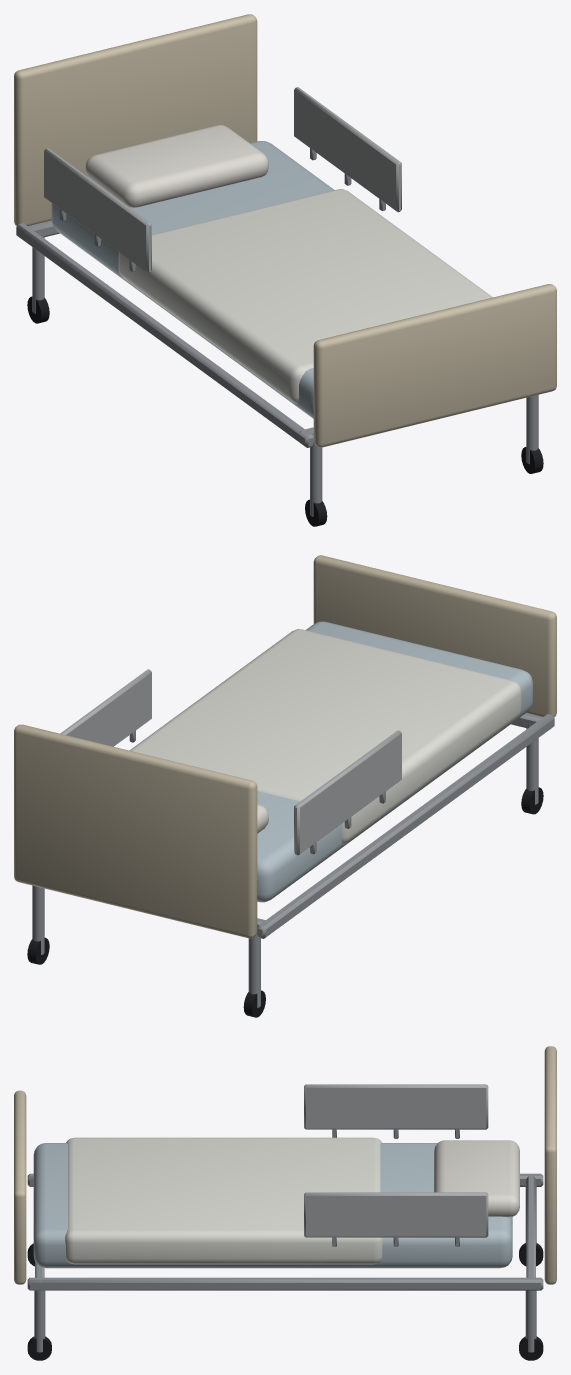
Rendered from bedSingle.glb.
The picture shows the model from 3 angles, top to bottom: view 1: azimuth 30°, elevation 25°; view 2: azimuth 150°, elevation 25°; view 3: azimuth 270°, elevation 25°; orthographic projection. The views are drawn at different scales.
Visible parts, largest first — view 1: bedSingle; view 2: bedSingle; view 3: bedSingle.
Boxes of the visible parts, x1,y1,x2,y2 form: bedSingle: [14, 14, 556, 526]; bedSingle: [14, 555, 556, 1017]; bedSingle: [14, 1046, 556, 1360].
Bounding box in the file's own units: 1.06 × 0.9692 × 2.21.
